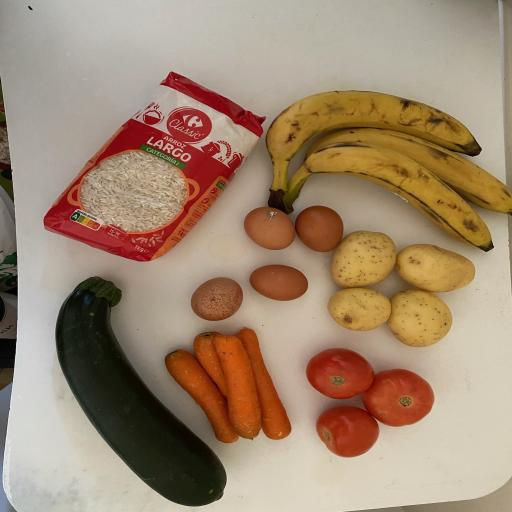banana: (264, 85, 484, 201), (280, 140, 498, 256), (281, 125, 512, 215)
carrot: (158, 345, 250, 445), (231, 324, 295, 444), (208, 331, 266, 443), (189, 330, 238, 401)
courgette: (51, 274, 230, 509)
egg: (240, 202, 297, 253), (246, 260, 310, 302), (186, 276, 244, 322), (294, 204, 346, 254)
potato: (326, 227, 400, 290), (391, 241, 478, 294), (384, 287, 456, 350), (323, 286, 398, 333)
rice: (40, 69, 263, 265)
tomato: (365, 365, 436, 429), (303, 345, 378, 402), (313, 403, 381, 460)
